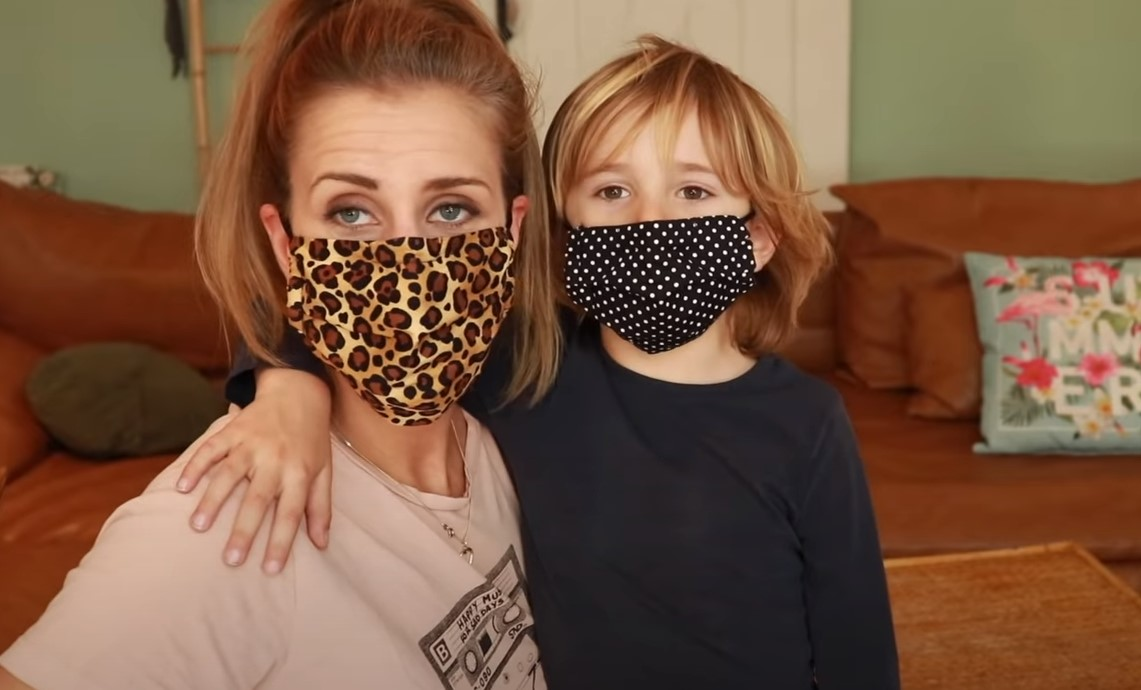face_with_mask: (251, 23, 525, 427), (533, 35, 808, 351)
